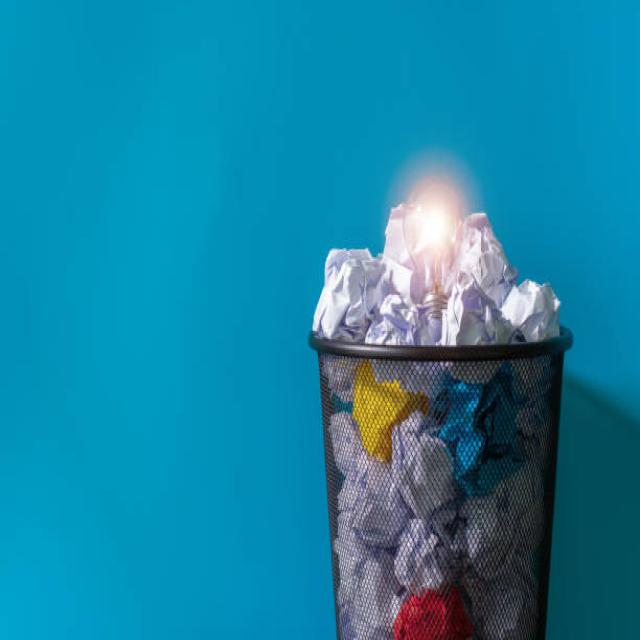paper: (227, 165, 560, 624)
